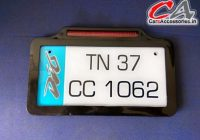number_plate: (28, 35, 180, 118)
